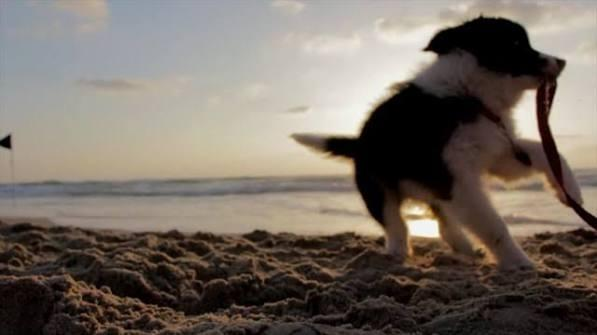puppy-dog: (288, 11, 583, 277)
